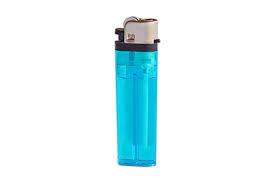lighter: (113, 18, 161, 166)
